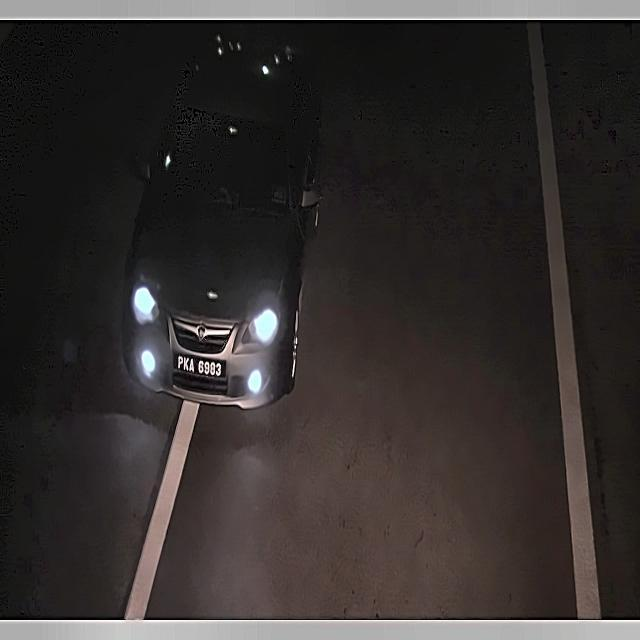car: (171, 349, 228, 389)
